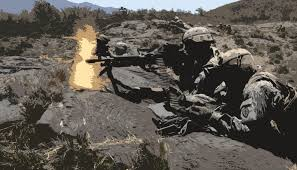gun: (84, 51, 166, 92)
